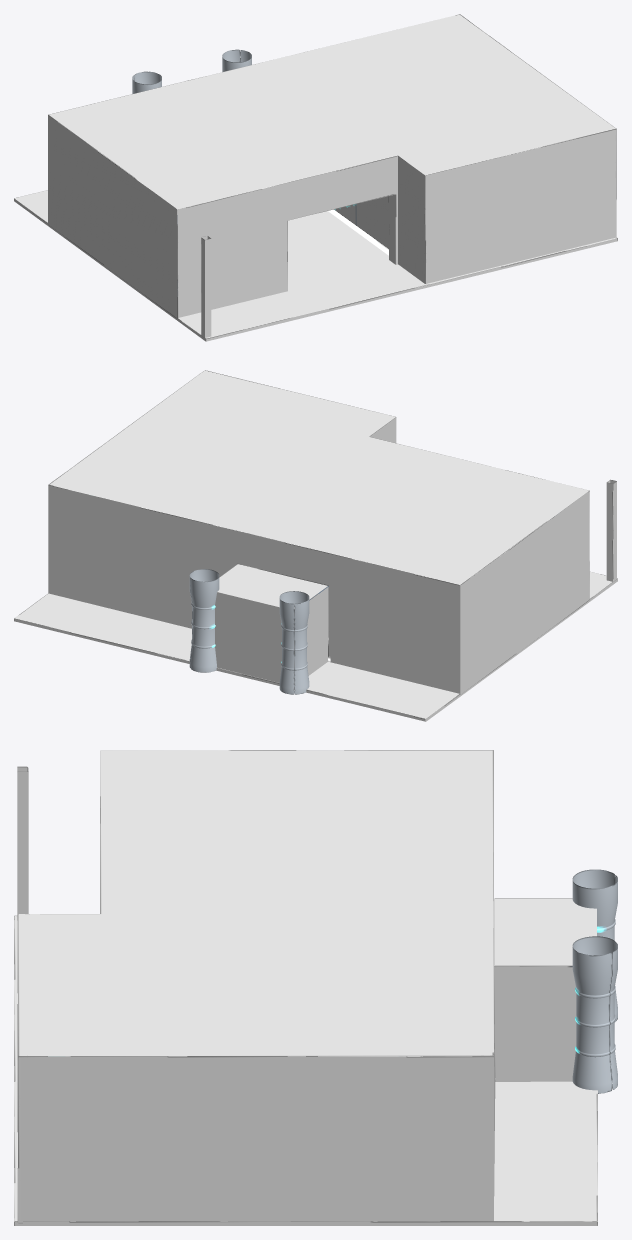
Rendered from pruebacis.fbx.
3 renders of one model, top to bottom at view 1: azimuth 30°, elevation 25°; view 2: azimuth 150°, elevation 25°; view 3: azimuth 270°, elevation 25°, orthographic. The views are drawn at different scales.
Parts seen in each view (by area): view 1: Estructura, ColumnaInterior4, ColumnaInterior3; view 2: Estructura, ColumnaInterior4, ColumnaInterior3; view 3: Estructura, ColumnaInterior3, ColumnaInterior4.
Boxes of the visible parts, box(x1,y1,x2,y2) form: Estructura: box(14, 14, 617, 341); ColumnaInterior4: box(132, 71, 161, 93); ColumnaInterior3: box(222, 49, 251, 71); Estructura: box(14, 370, 617, 721); ColumnaInterior4: box(279, 591, 309, 694); ColumnaInterior3: box(189, 569, 219, 672); Estructura: box(14, 750, 597, 1225); ColumnaInterior3: box(572, 936, 617, 1093); ColumnaInterior4: box(572, 869, 617, 1022).
Size of the model in its own units: 1501 by 388 by 1252.
